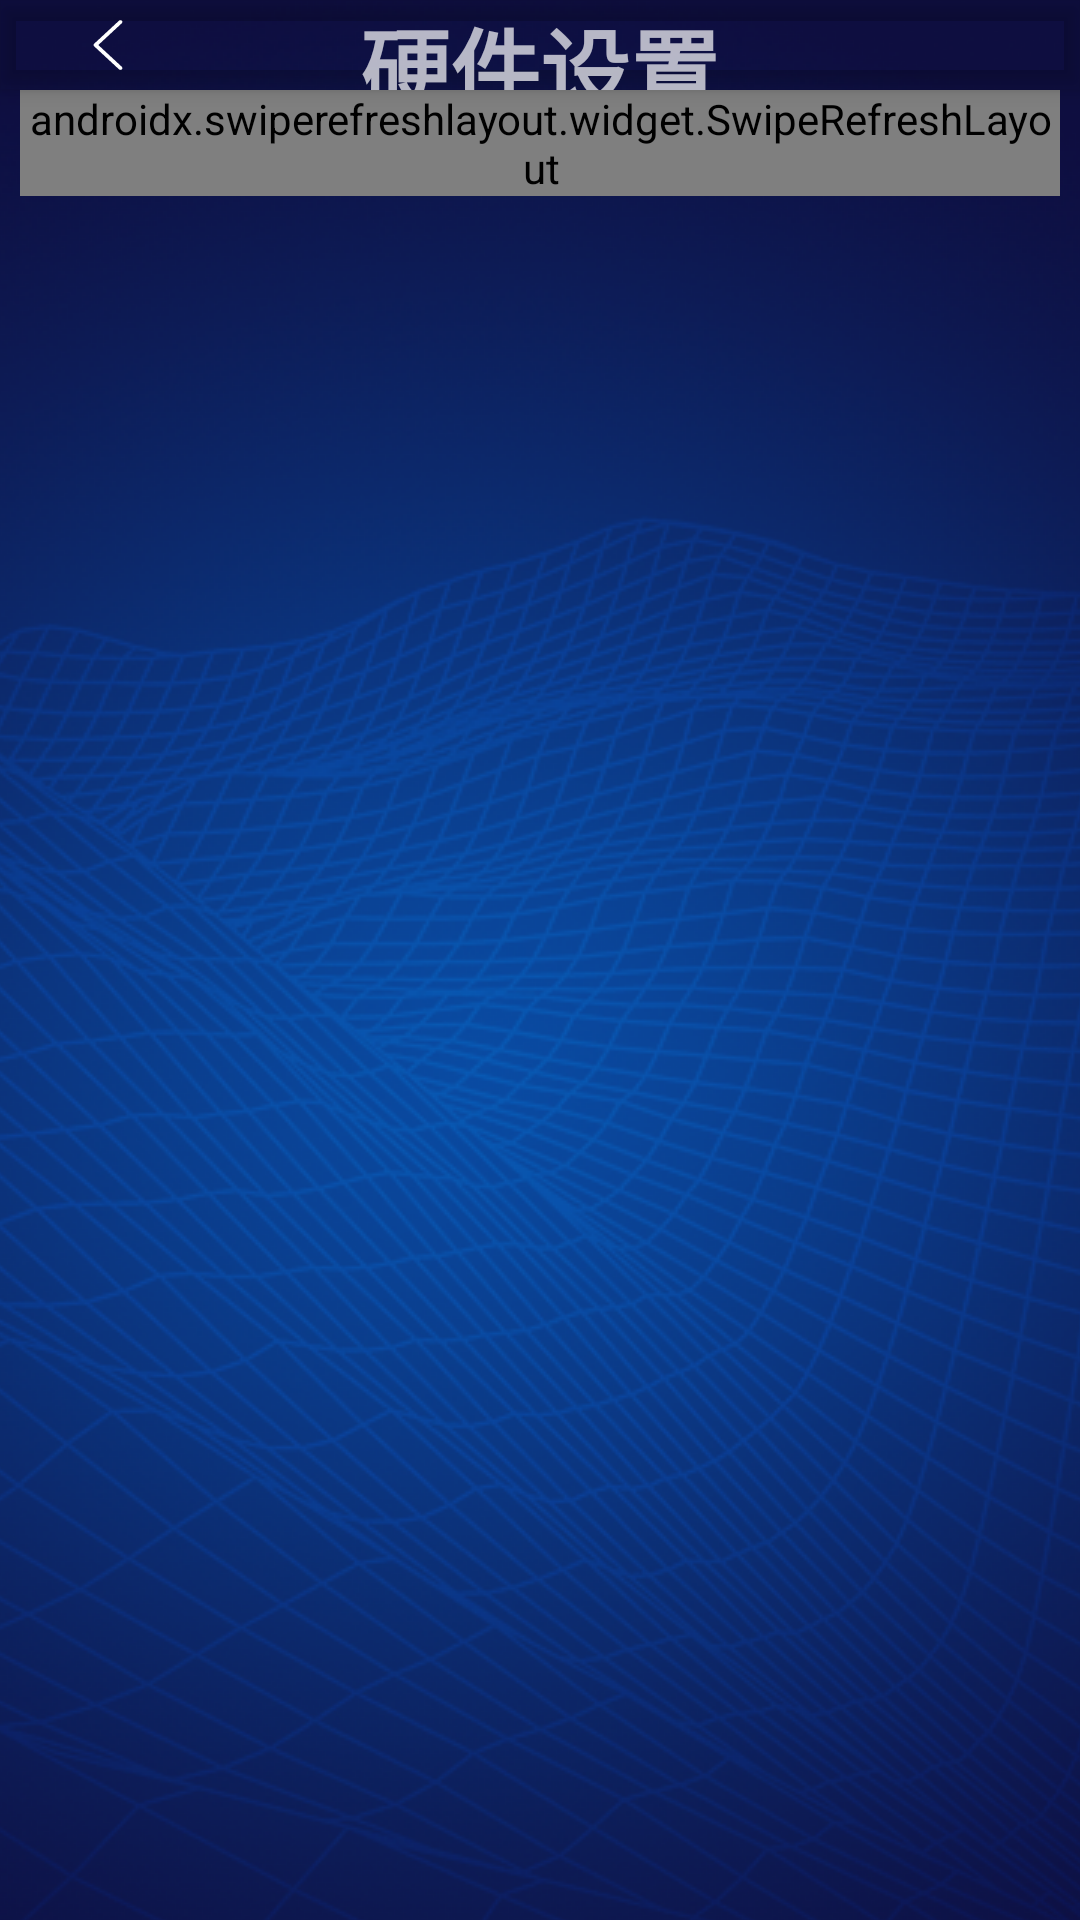

Icons on this 1080*1920 Android screen, each with the point to tap as (x,y):
back: (108,45)
